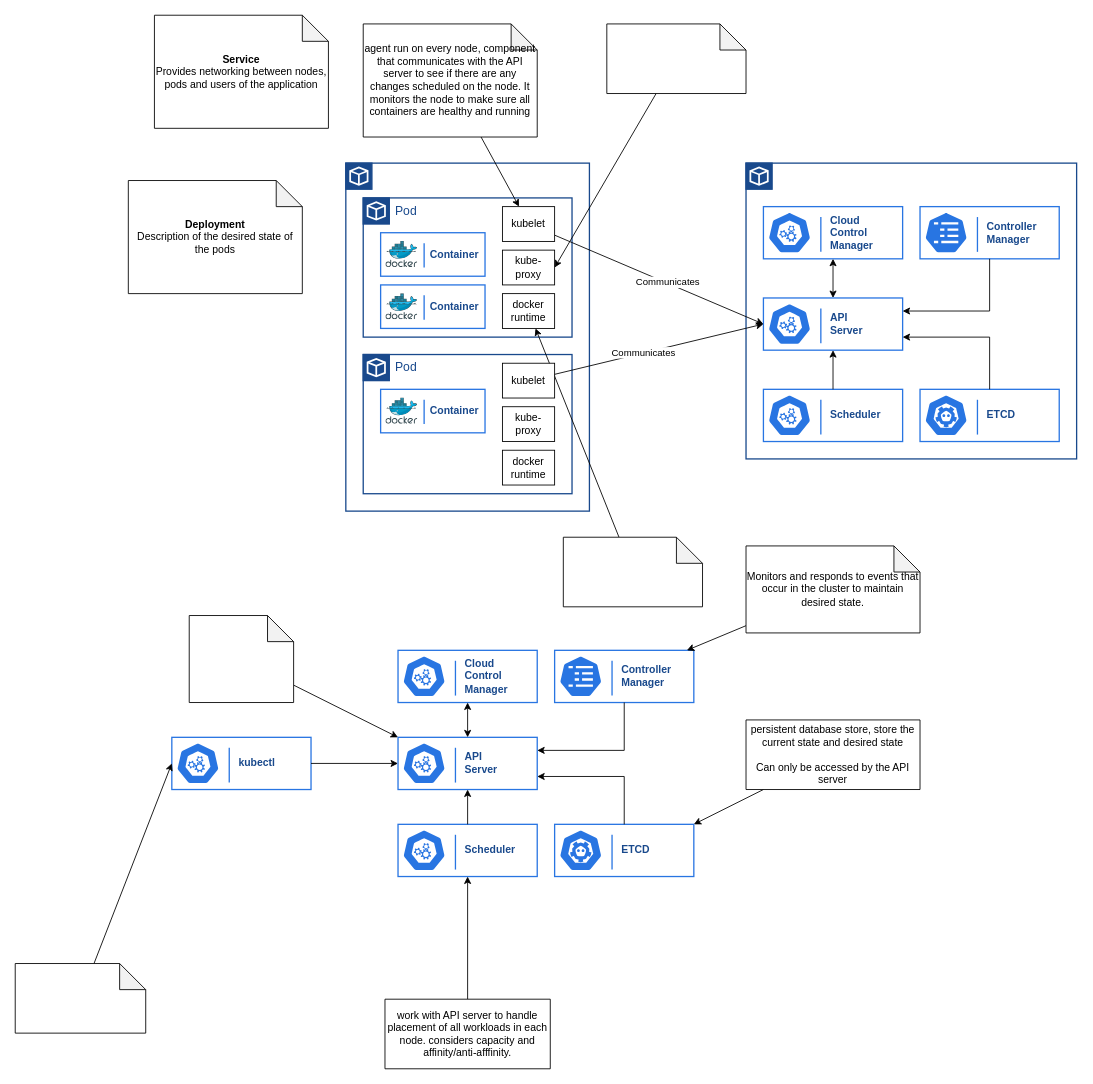
This 1093x1084 diagram has some shape labels left out. The box of each missing label's shape, as (x1, y1, x2, y2) in pixels:
All things are communicated with the API: (188, 615, 294, 703)
CLI for user/admin to contact and interact with kube: (14, 963, 146, 1033)
Kubernetes Control Plane: (745, 162, 1077, 459)
Network proxy that runs the network rules on the node: (606, 23, 746, 94)
Software that runs the container instance (e.g. docker): (562, 536, 703, 607)
Worker Node (VM): (345, 162, 590, 511)
